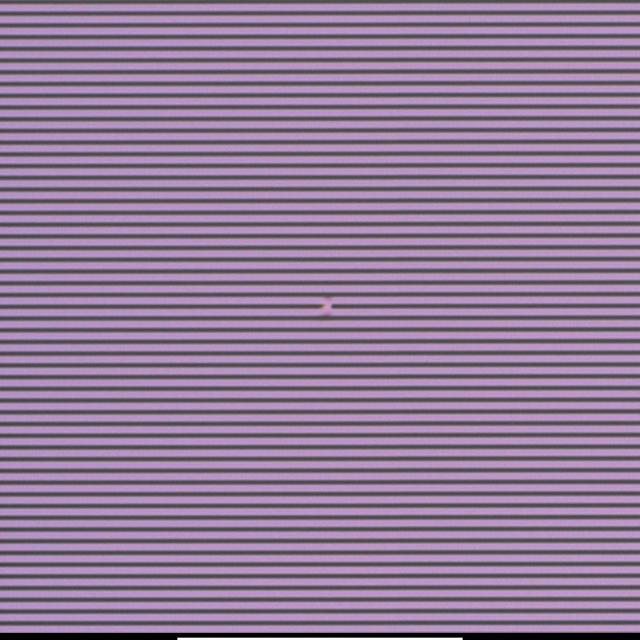03_intrusion: (315, 294, 336, 321)
